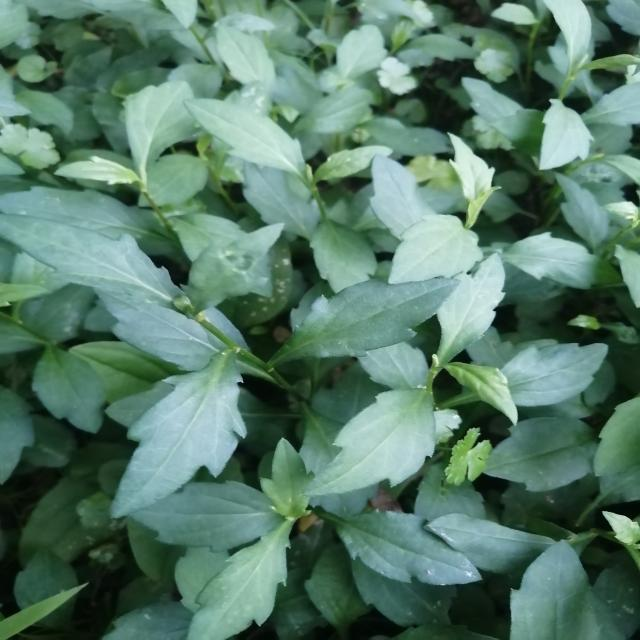Indian aster: (4, 185, 396, 472), (120, 454, 488, 631)
